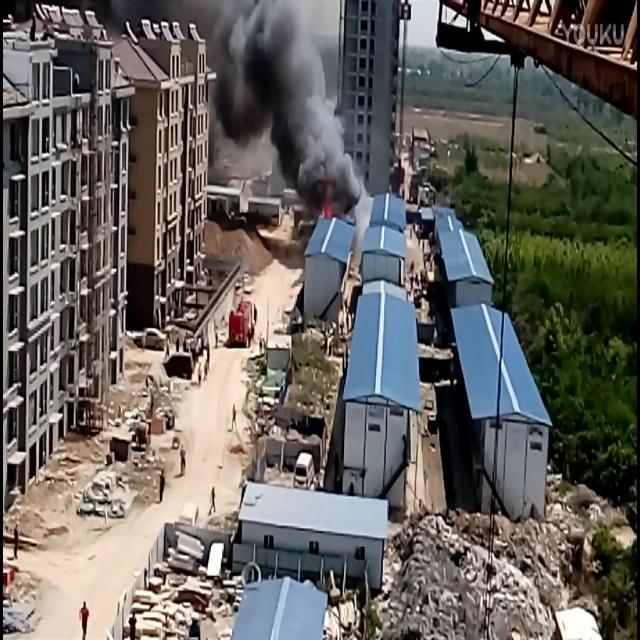Fire: (320, 200, 338, 218)
Smoke: (210, 2, 366, 194)
